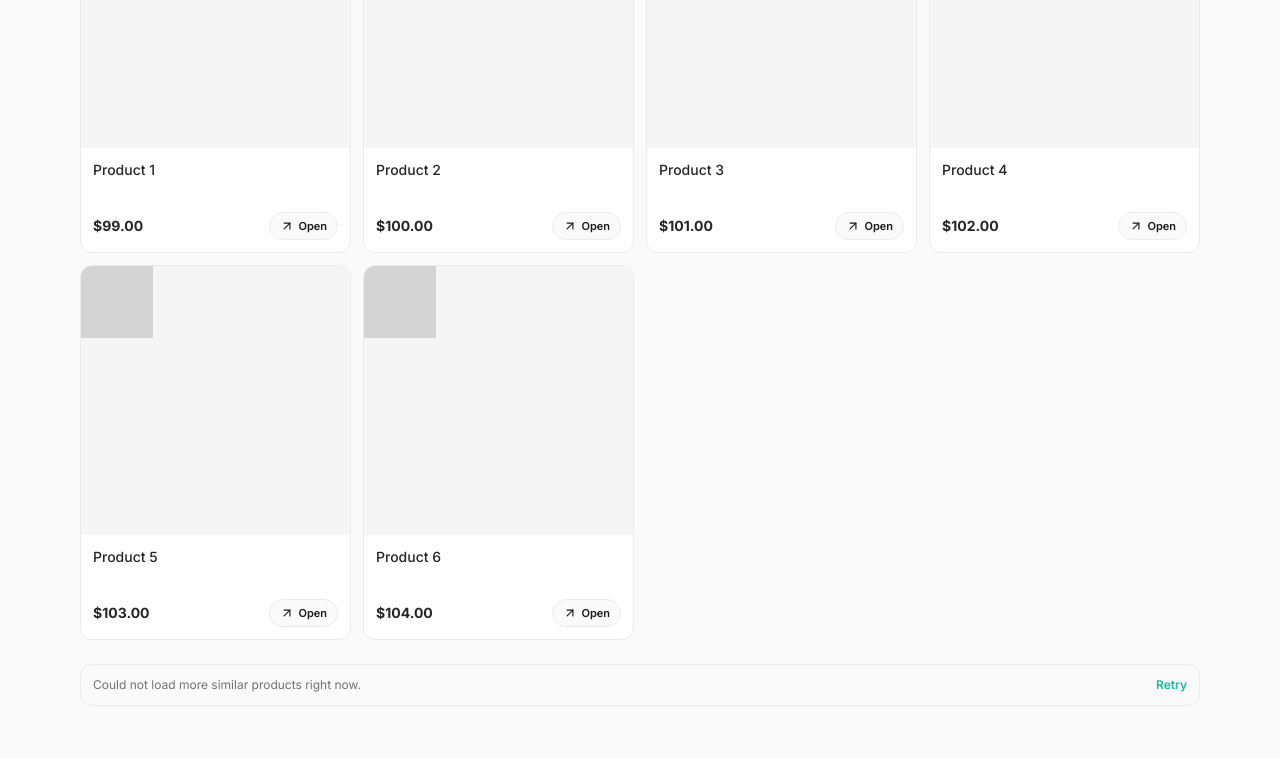
Test: PdpContainer recommendations interactions › shows inline retry when auto-load fails and succeeds on retry
The width and height of the screenshot is (1280, 758).
(page scrolled)
Click the button "Retry" at [1172, 685], box [1156, 677, 1187, 693]
(page scrolled)
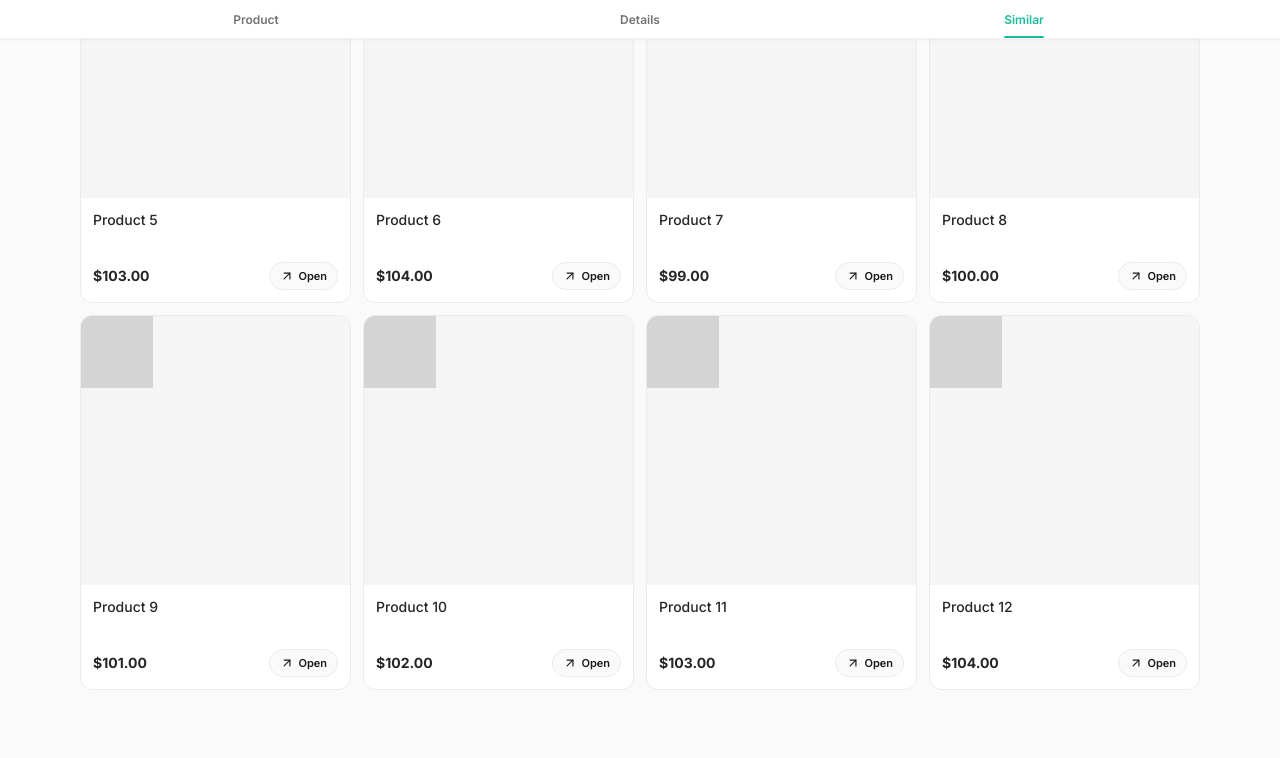
expect the text "Product 12" is shown: met, box [942, 598, 1013, 615]
